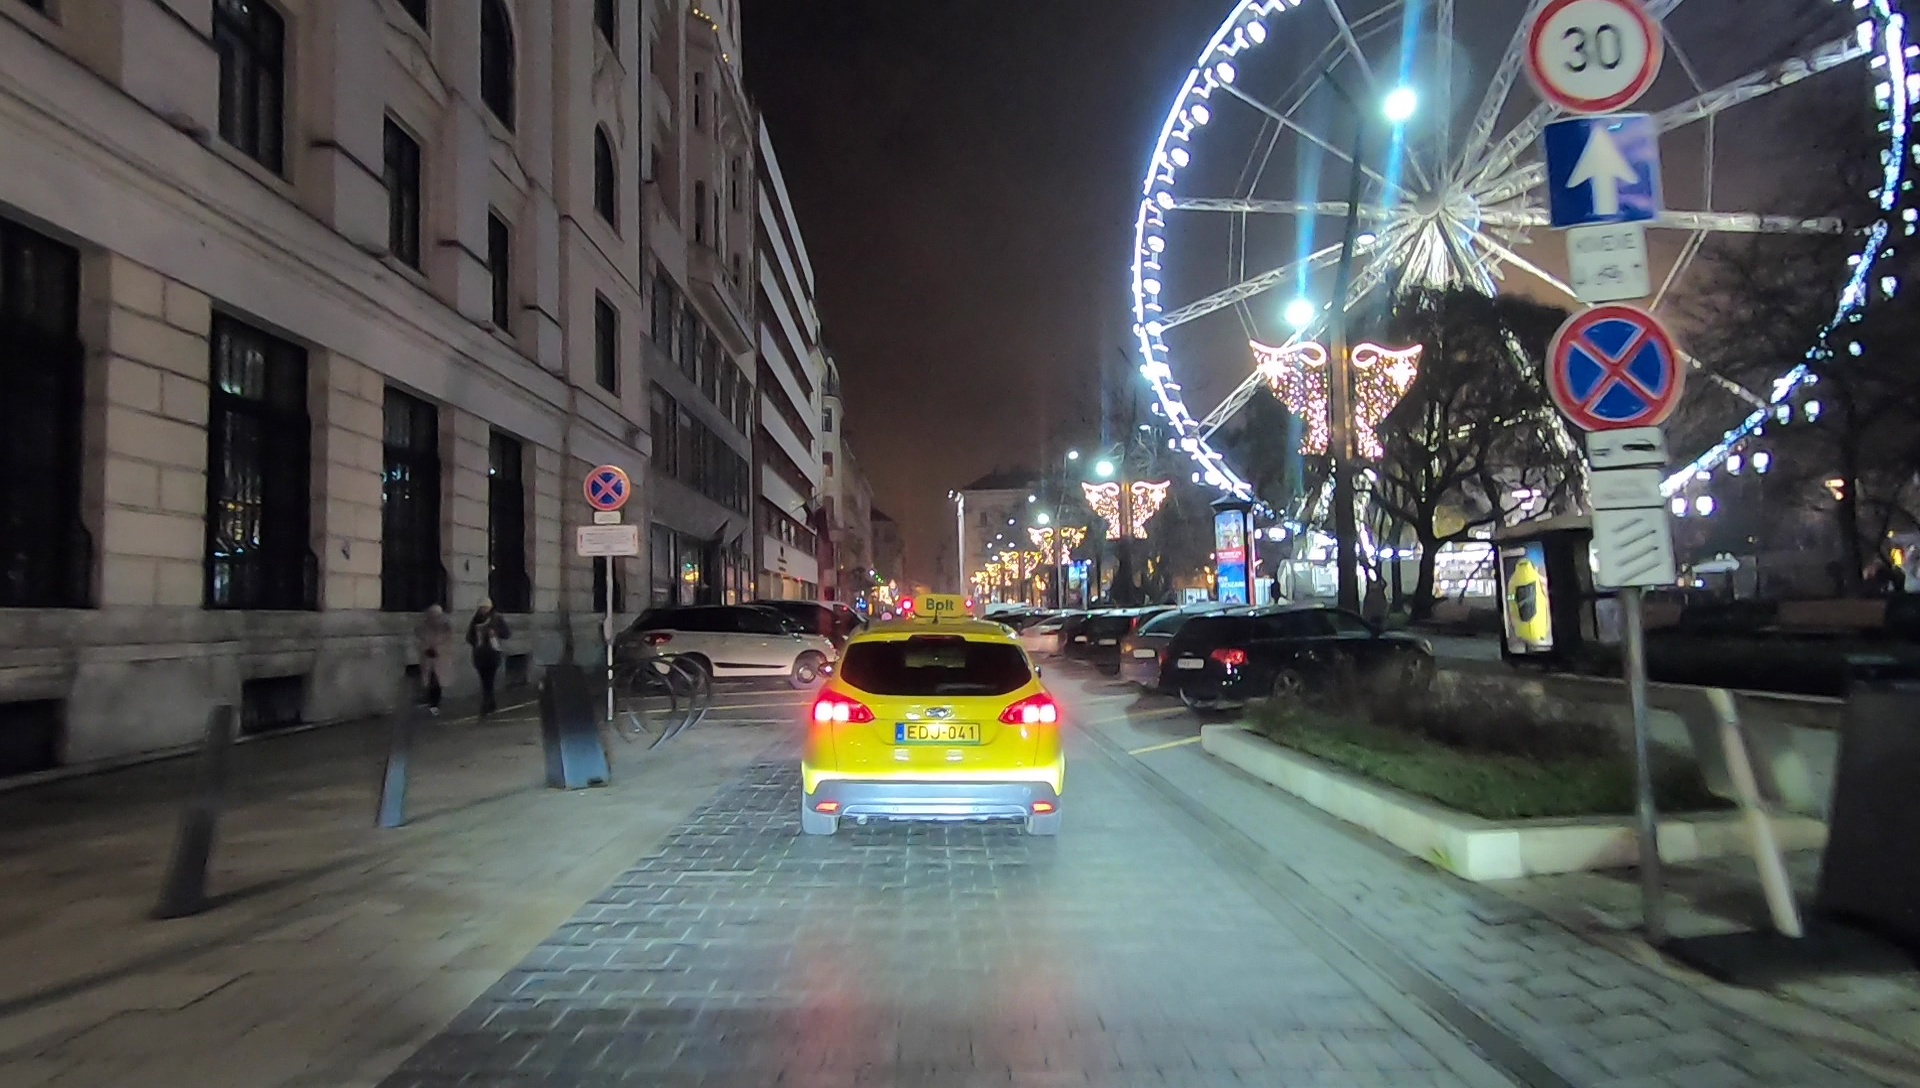person: (467, 597, 510, 723), (408, 608, 452, 723)
